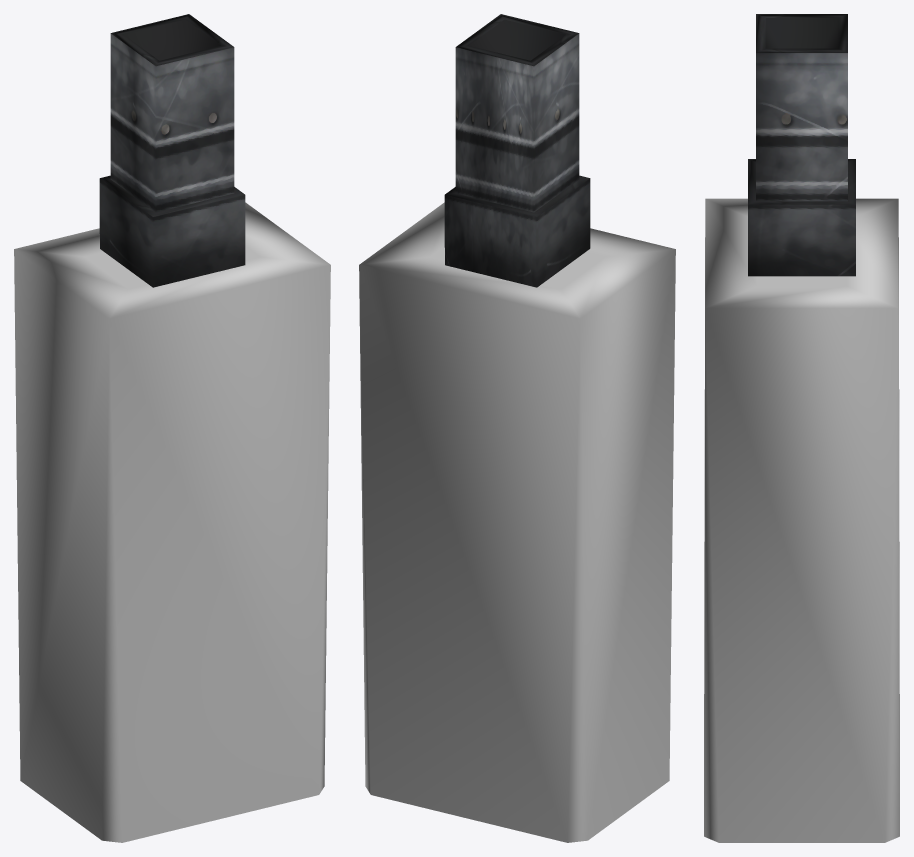
Rendered from Chimney1_1.fbx.
The picture shows the model from 3 angles, left to right: view 1: azimuth 30°, elevation 25°; view 2: azimuth 150°, elevation 25°; view 3: azimuth 270°, elevation 25°; orthographic projection.
Parts seen in each view (by area): view 1: Mesh; view 2: Mesh; view 3: Mesh.
Part boxes in pixels (bbox=[...]): Mesh: bbox=[14, 14, 330, 842]; Mesh: bbox=[359, 14, 675, 842]; Mesh: bbox=[704, 14, 899, 842].
Bounding box in the file's own units: 152 × 486 × 114.
